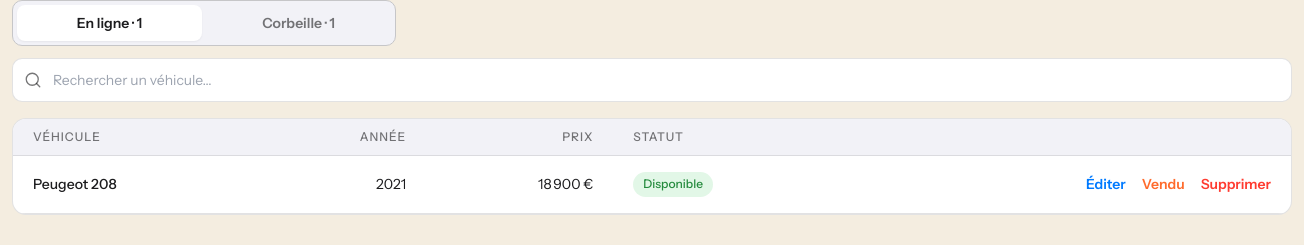
Test: Corbeille du BO › la liste ne montre que ce qui est en ligne ; la corbeille montre le reste
Expected: the text "Peugeot 208" is shown, left=33, top=175, right=117, bottom=193
Expected: the text "Dacia Sandero" is not shown
Click the tab "Corbeille · 1" at {"x": 298, "y": 23}, box left=206, top=5, right=391, bottom=41
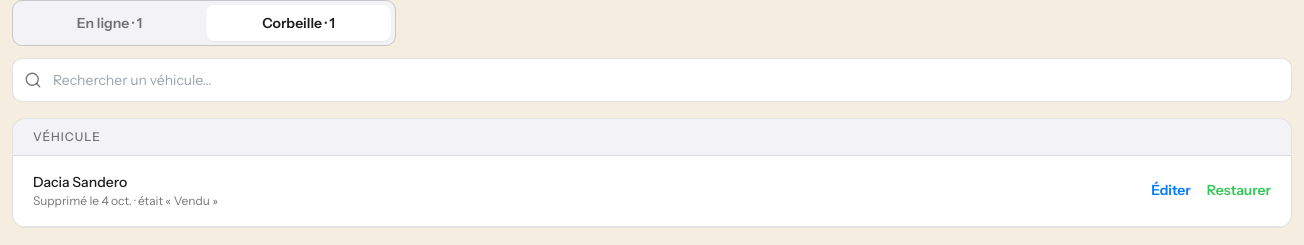
Now the text "Peugeot 208" is gone
Now the text "Dacia Sandero" shows "Supprimé le 4 oct.", box left=13, top=156, right=1291, bottom=226
Now the text "Dacia Sandero" shows "était « Vendu »", box left=132, top=193, right=218, bottom=208
